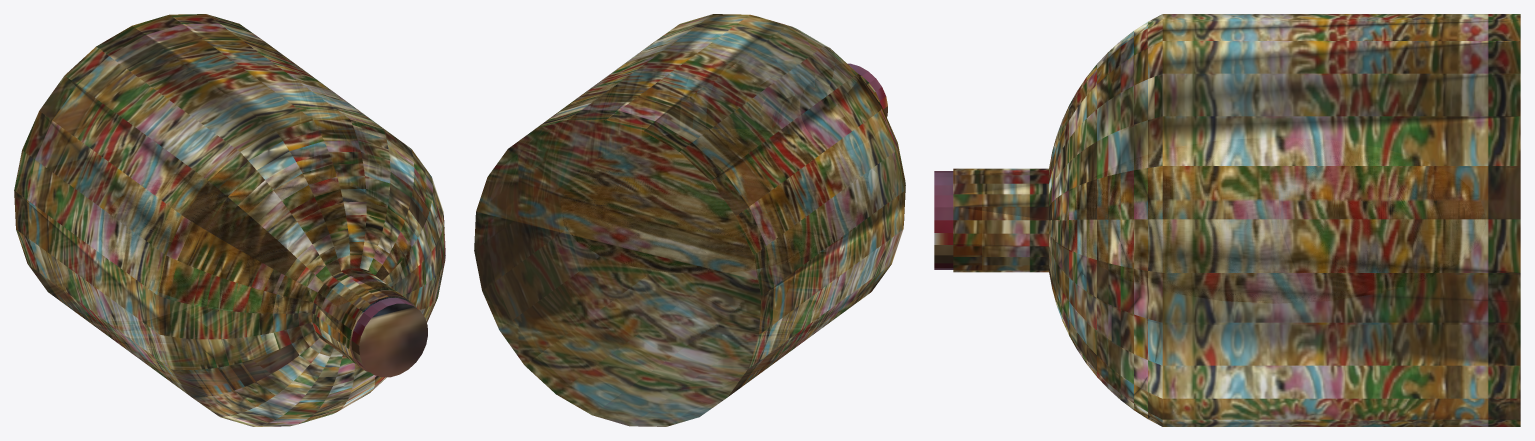
Rendered from model_align.obj.
The picture shows the model from 3 angles, left to right: view 1: azimuth 30°, elevation 25°; view 2: azimuth 150°, elevation 25°; view 3: azimuth 270°, elevation 25°; orthographic projection. The views are drawn at different scales.
Bounding box in the file's own units: 0.1314 × 0.1314 × 0.1872.
